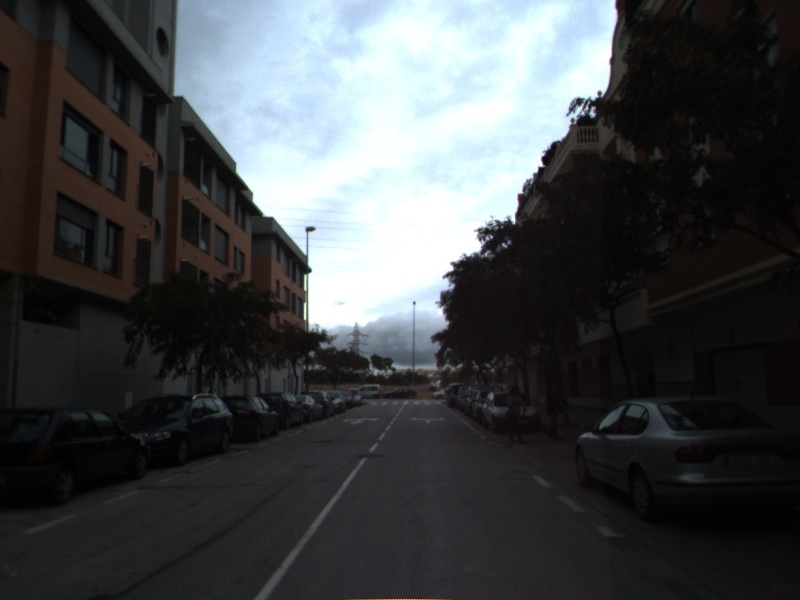LEFT_RIGHT: (407, 414, 449, 426)
